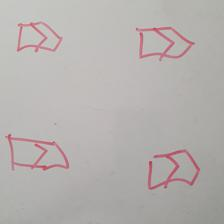polypeptide-region: (5, 133, 69, 172), (148, 149, 201, 190), (136, 27, 195, 61), (17, 22, 62, 53)
